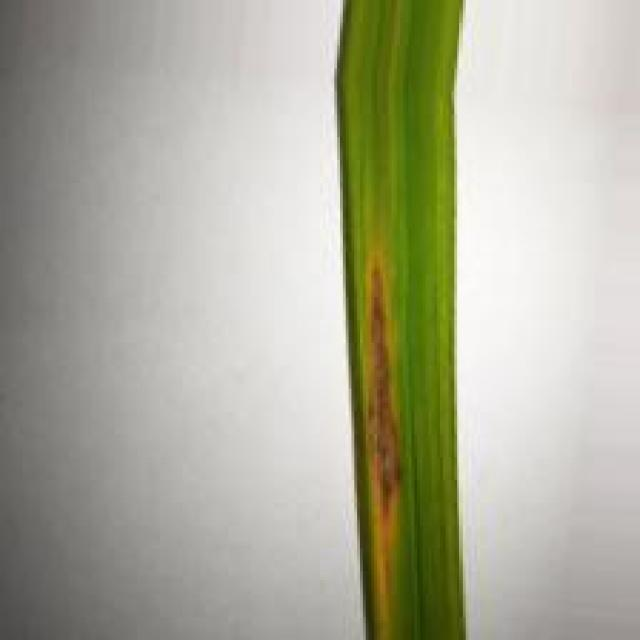Leaf_Blast: (364, 241, 408, 613)
